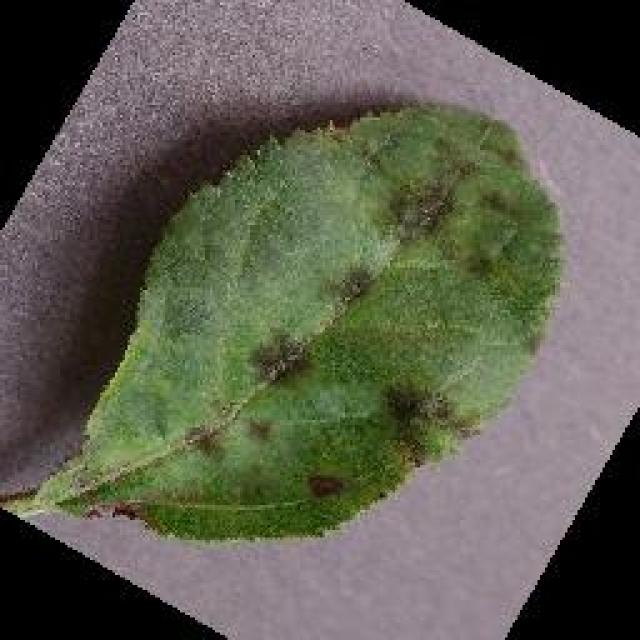apple scab disease: (10, 95, 565, 543)
